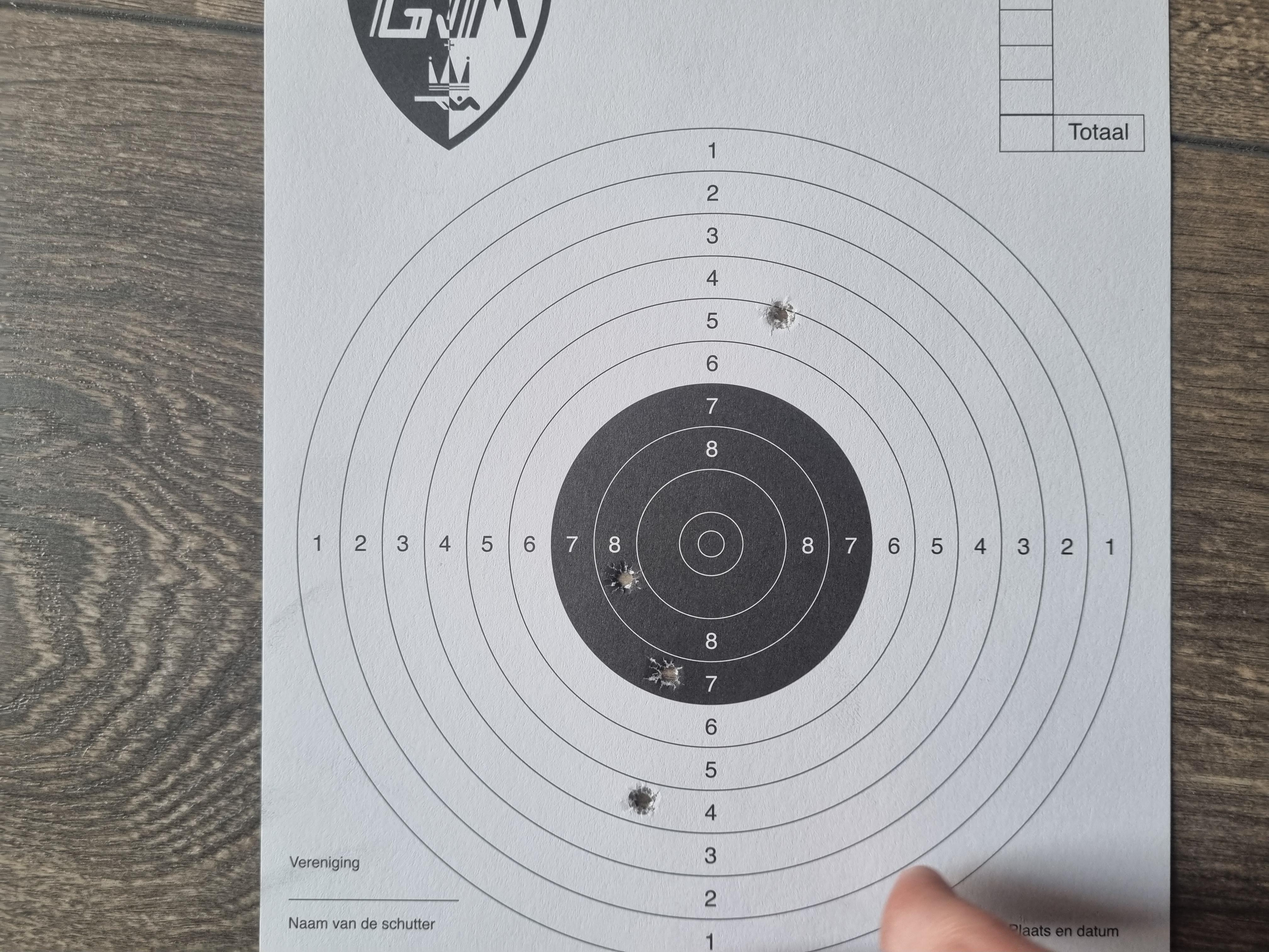hole: (349, 484, 393, 513), (477, 453, 519, 482), (821, 574, 869, 597), (181, 471, 225, 495)
